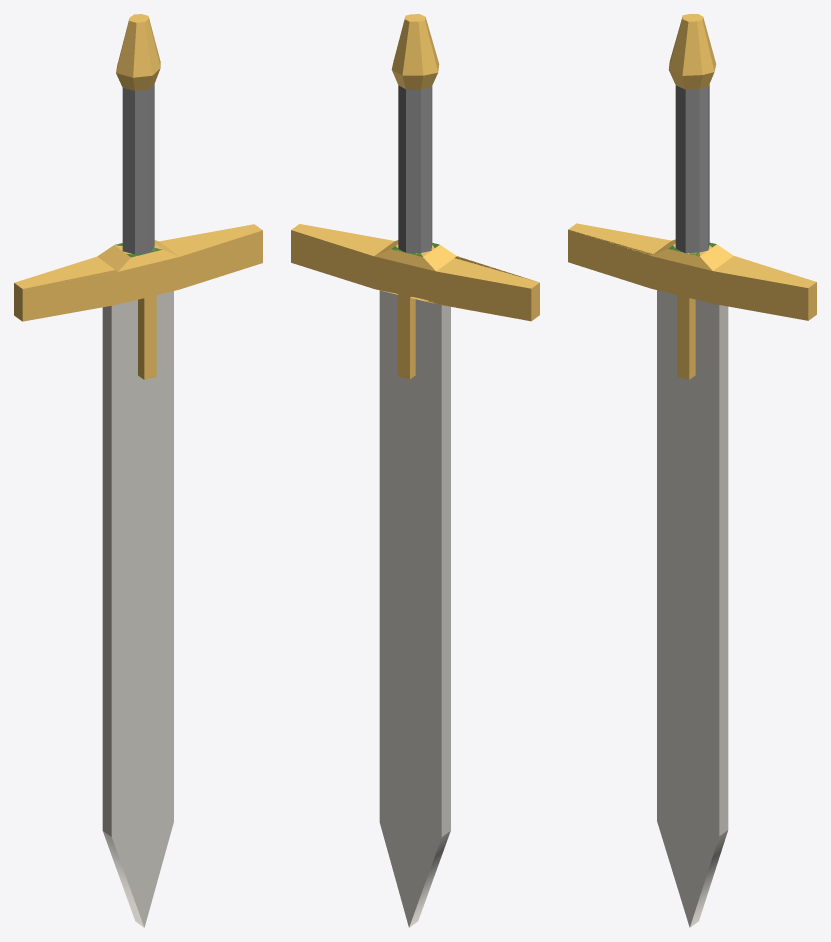
The model's file is EL_Deco_Sword.FBX.
3 views of the same model, side by side, from view 1: azimuth 30°, elevation 25°; view 2: azimuth 150°, elevation 25°; view 3: azimuth 330°, elevation 25° (orthographic).
Parts seen in each view (by area): view 1: Box003; view 2: Box003; view 3: Box003.
Part boxes in pixels (box(x1,y1,x2,y2)): Box003: box(14, 14, 262, 927); Box003: box(291, 14, 539, 927); Box003: box(568, 14, 816, 927).
Bounding box in the file's own units: 3.83 × 13.82 × 0.6602.
